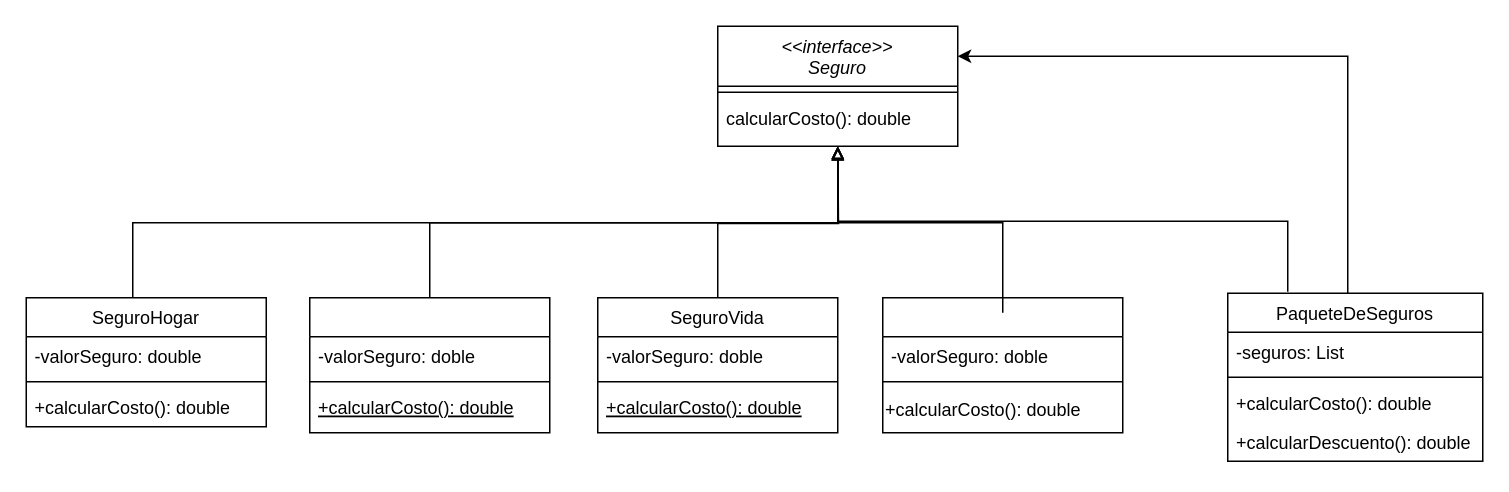
The diagram is 1509 pixels wide and 492 high, and some of its shapes have lost their labels. Here are the shapes that lost their labels. From the top down, the box of each, then its label:
(308, 296, 550, 433): SeguroAutomovil
(881, 296, 1123, 433): SeguroMedico
